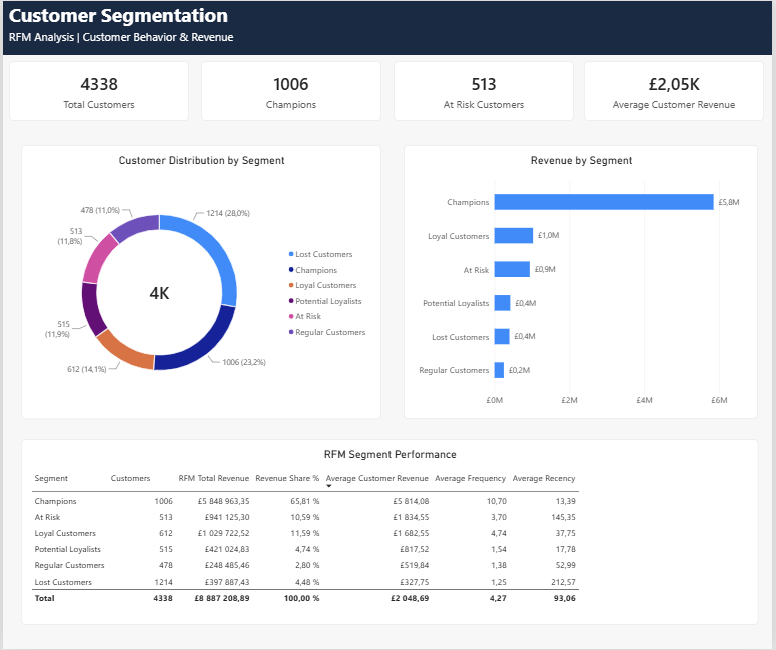

The page's visual inventory and layout, read from the dashboard file:
{"tool":"powerbi","page":{"name":"Customer Analytics & RFM Segmentation.","canvas":[1280,1080],"ordinal":1},"visuals":[{"type":"card","fields":{"Values":["public customer_rfm.At Risk Customers"]},"box":[651.1,101.1,300,100],"z":0},{"type":"card","fields":{"Values":["public customer_rfm.Champions"]},"box":[330,101.1,300,100],"z":1000},{"type":"card","fields":{"Values":["public customer_rfm.Total Customers"]},"box":[10,101.5,300,100],"z":2000},{"type":"card","fields":{"Values":["public customer_rfm.Average Customer Revenue"]},"box":[967.8,101.1,300,100],"z":3000},{"type":"donutChart","title":"Customer Distribution by Segment","fields":{"Category":["public customer_rfm.segment"],"Y":["public customer_rfm.Total Customers"]},"box":[30,240,600,457],"z":4000},{"type":"clusteredBarChart","title":"Revenue by Segment","fields":{"Category":["public customer_rfm.segment"],"Y":["public customer_rfm.RFM Total Revenue"]},"box":[666.7,240,590,456.7],"z":5000},{"type":"tableEx","title":"RFM Segment Performance","fields":{"Values":["public customer_rfm.segment","public customer_rfm.Total Customers","public customer_rfm.RFM Total Revenue","public customer_rfm.Revenue Share %","public customer_rfm.Average Customer Revenue","public customer_rfm.Average Frequency","public customer_rfm.Average Recency"]},"box":[30,730,1227.5,310],"z":6000},{"type":"shape","box":[0,0,1920,90],"z":7000},{"type":"textbox","box":[10,0,415,45],"z":7001},{"type":"textbox","box":[10,45,880,45],"z":7002}]}

Visuals, with their boxes in screenshot pixels (x1, y1, x2, y2), scaled from the page's 1280x1080 canvas onto the 776x650 screenshot:
card - public customer_rfm.At Risk Customers: Rect(395, 61, 577, 121)
card - public customer_rfm.Champions: Rect(200, 61, 382, 121)
card - public customer_rfm.Total Customers: Rect(6, 61, 188, 121)
card - public customer_rfm.Average Customer Revenue: Rect(587, 61, 769, 121)
"Customer Distribution by Segment" donutChart: Rect(18, 144, 382, 419)
"Revenue by Segment" clusteredBarChart: Rect(404, 144, 762, 419)
"RFM Segment Performance" tableEx: Rect(18, 439, 762, 626)
shape: Rect(0, 0, 775, 54)
textbox: Rect(6, 0, 258, 27)
textbox: Rect(6, 27, 540, 54)
